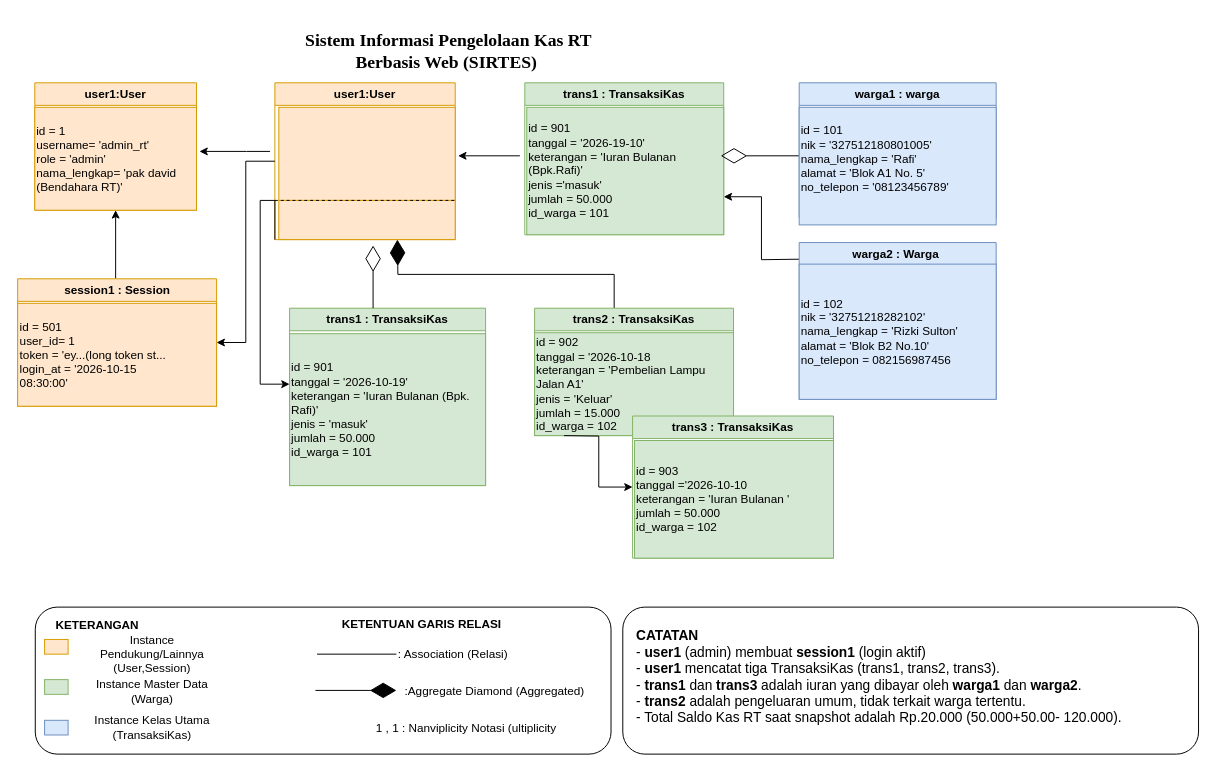
This 1215x771 diagram has some shape labels left out. The shapes that lost their labels are listed below. From the top down, each one's centre as x and y in pixels, then its label:
At pixel 366 153: "id= 1 username ='admin_rt' role= 'admin' nama_lengkap ='pak david (Bendahara RT)".
At pixel 366 219: "method like updatePassword()".
